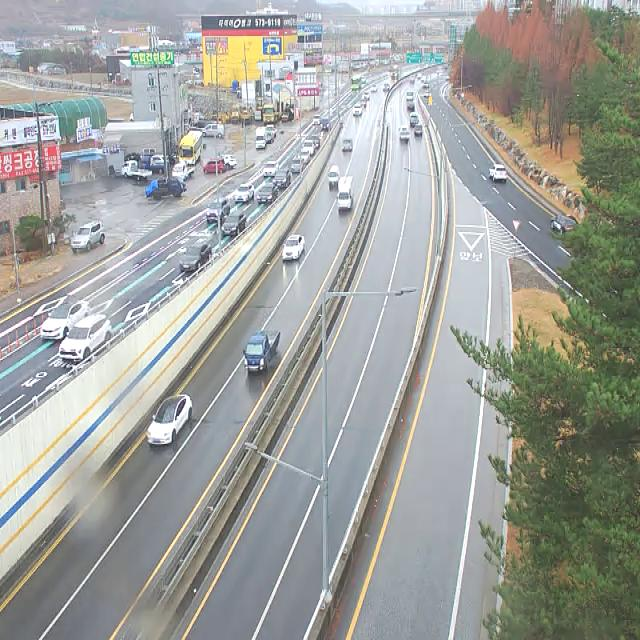Bus: (179, 130, 203, 166), (352, 74, 361, 90)
Car: (58, 315, 112, 360), (148, 395, 192, 445), (40, 300, 90, 340), (71, 220, 105, 254), (180, 242, 212, 271), (282, 234, 306, 260), (207, 197, 230, 223), (222, 212, 246, 236), (550, 216, 579, 235), (257, 183, 277, 204), (234, 184, 254, 202), (273, 169, 291, 188), (198, 124, 224, 137), (489, 165, 508, 182), (328, 165, 340, 188), (203, 161, 224, 174), (263, 161, 279, 177), (223, 155, 237, 170), (291, 157, 304, 173), (150, 155, 170, 165), (302, 140, 315, 155), (281, 109, 294, 122), (342, 138, 353, 152), (309, 134, 320, 148), (266, 125, 277, 138), (300, 150, 310, 164), (410, 112, 419, 126), (353, 104, 362, 116), (414, 126, 423, 137), (266, 133, 274, 144), (406, 92, 414, 102), (312, 115, 320, 125), (362, 92, 370, 100), (407, 103, 415, 111), (383, 82, 390, 91), (370, 84, 377, 93), (362, 76, 366, 84)
Truck: (243, 330, 280, 373), (144, 177, 187, 200), (122, 161, 152, 181), (337, 176, 354, 210), (138, 155, 164, 173), (262, 105, 278, 123), (256, 127, 266, 150), (398, 124, 411, 140), (321, 118, 329, 131)
